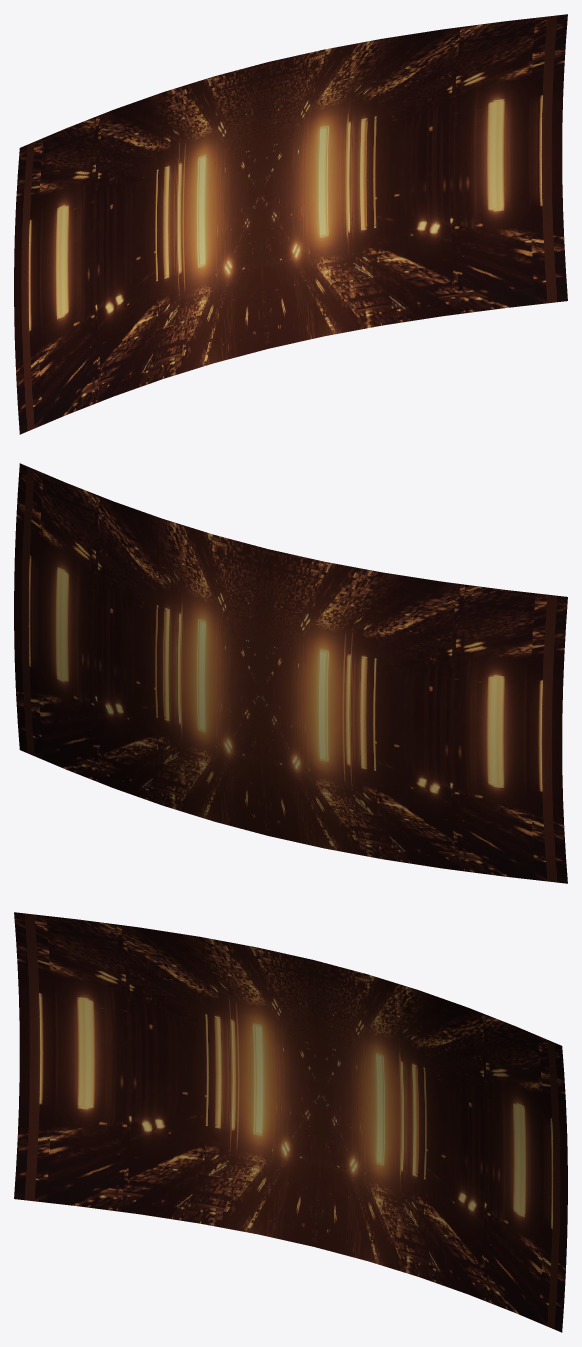
File: C_Futuro2.fbx
The picture shows the model from 3 angles, top to bottom: view 1: azimuth 30°, elevation 25°; view 2: azimuth 150°, elevation 25°; view 3: azimuth 330°, elevation 25°; orthographic projection.
Parts seen in each view (by area): view 1: pPlane1; view 2: pPlane1; view 3: pPlane1.
Part boxes in pixels (<box>): pPlane1: <box>14,14,567,434</box>; pPlane1: <box>14,463,567,883</box>; pPlane1: <box>14,912,567,1332</box>.
Bounding box in the file's own units: 400 × 200 × 42.49.
1 material, 1 textured.
